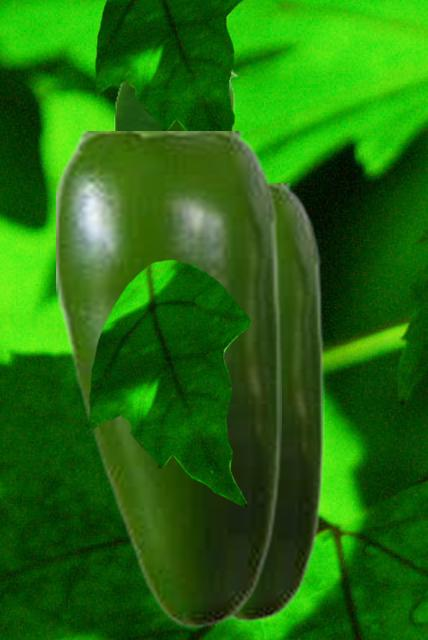green_chili: (56, 131, 280, 628), (228, 183, 323, 622), (114, 66, 238, 130)
